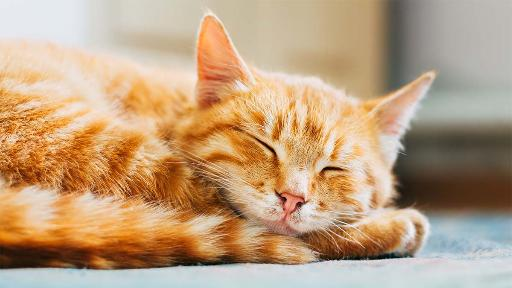cat_sleeping: (0, 12, 435, 268)
